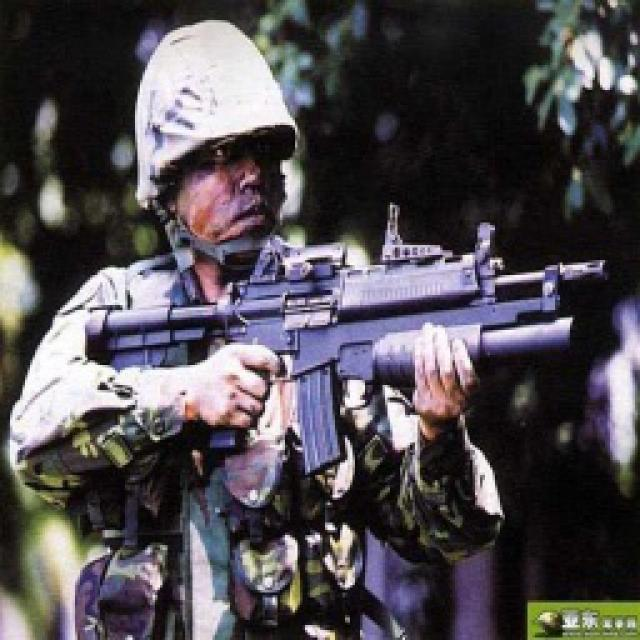long weapon: (76, 183, 602, 439)
